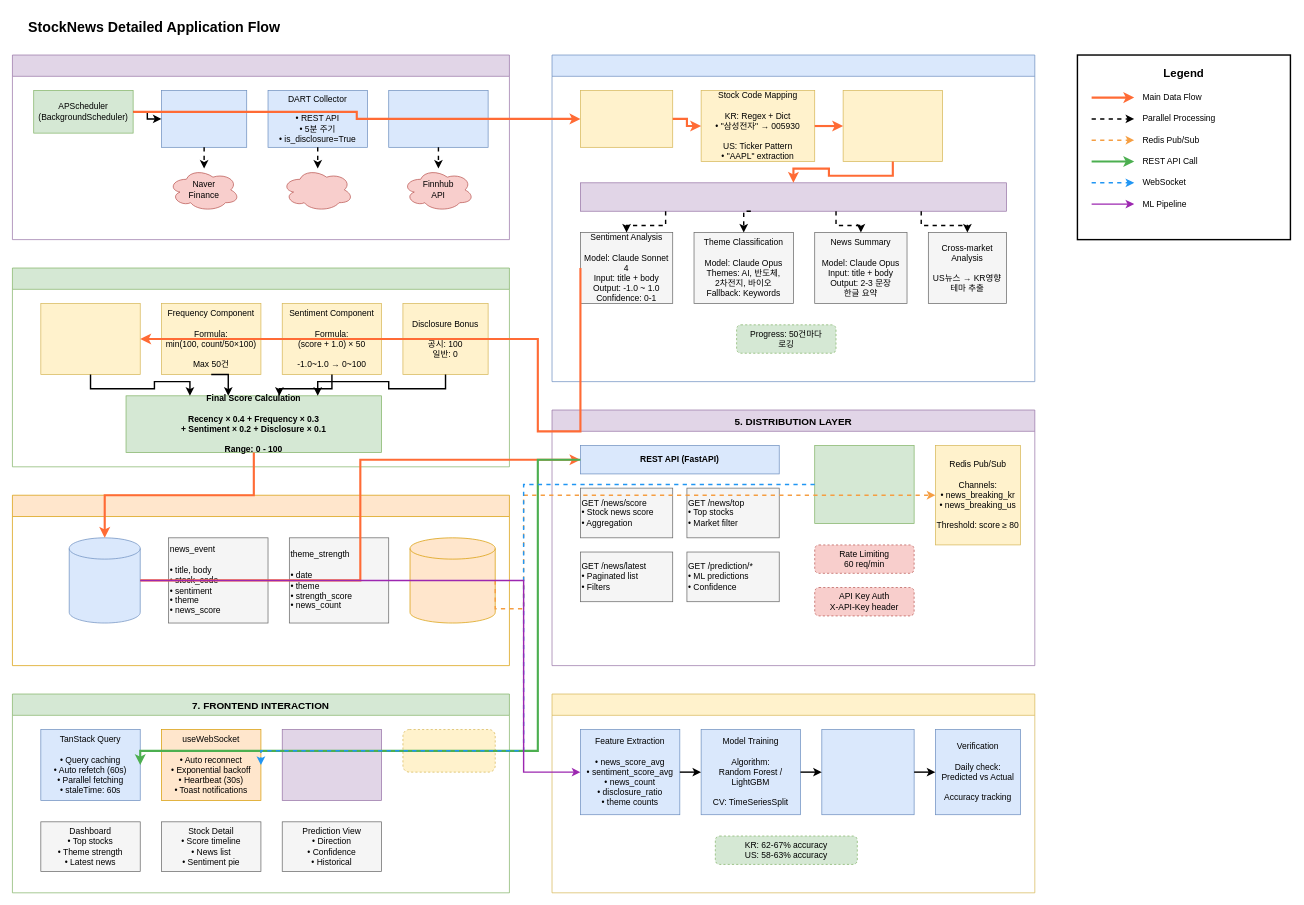
Image size: 1304x905. Some labels were removed from this diagram. The box of each missing label's shape, as (x1, y1, x2, y2) in pixels:
1. COLLECTION STAGE: (12, 54, 509, 240)
2. PROCESSING PIPELINE: (551, 54, 1035, 382)
3. SCORING ENGINE: (12, 267, 509, 467)
4. DATA STORAGE: (12, 495, 509, 666)
6. ML PIPELINE: (551, 693, 1035, 893)
Article Scraping • asyncio batch • 5 concurrent • BeautifulSoup • 10s timeout: (842, 90, 943, 162)
Cache Invalidation on WebSocket message: (402, 729, 495, 772)
DART OpenAPI: (282, 168, 353, 211)
Deduplication • URL check • Title similarity • DB query: (580, 90, 673, 147)
Finnhub Collector • httpx async • 3분 주기 • US market: (388, 90, 488, 147)
Naver Collector • BeautifulSoup • 1분 주기 • Retry 3회: (161, 90, 247, 147)
Parallel LLM Analysis ThreadPoolExecutor (10 workers): (580, 182, 1006, 211)
PostgreSQL: (69, 537, 140, 623)
Prediction Direction: up / neutral / down Confidence: 0-1: (821, 729, 914, 815)
Recency Component Formula: 100 × 2^(-hours / 24) 24시간 반감기: (40, 303, 140, 375)
Recharts • Line charts • Bar charts • Pie charts: (282, 729, 382, 801)
Redis Cache TTL: 1-5분 Keys: • score:{market}:{code} • timeline:{code}: (409, 537, 495, 623)
WebSocket /ws/news • Real-time events • Broadcast to all • Heartbeat (30s): (814, 445, 914, 524)
